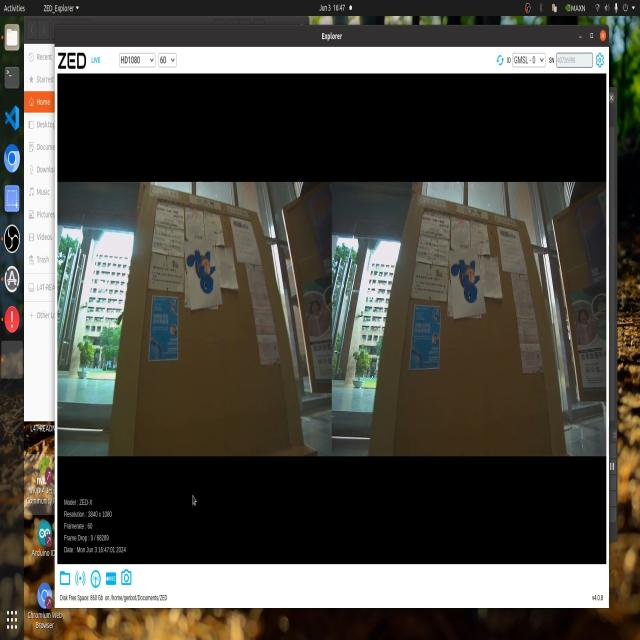blue: (181, 236, 225, 307), (449, 249, 483, 307)
